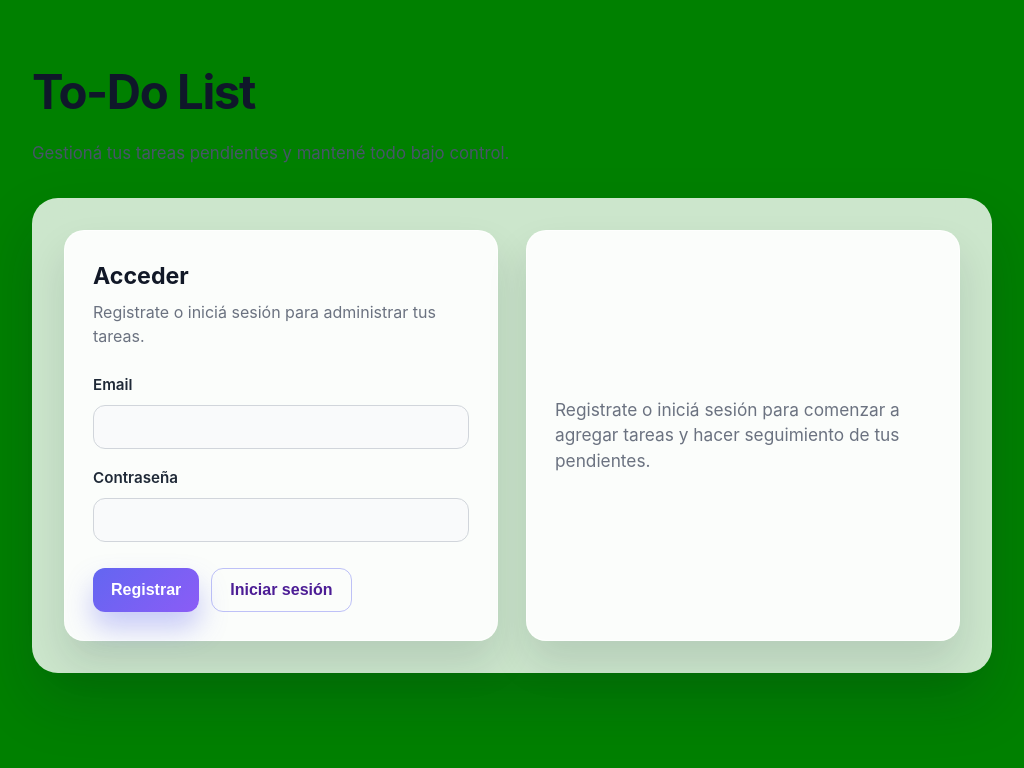
Test: App integration › muestra un mensaje si se intenta guardar una edición vacía
The width and height of the screenshot is (1024, 768).
Type "demo@example.com" into the field labelled "Email" at {"x": 281, "y": 427}, box [93,405,469,449]
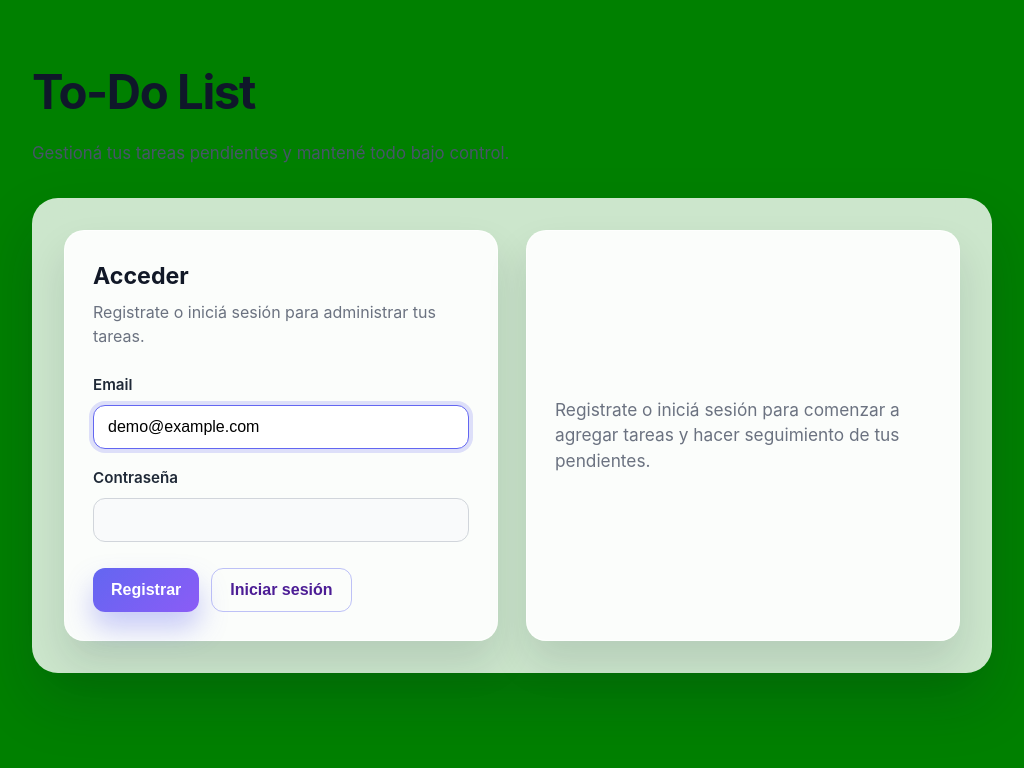
Type "pass123" into the password field labelled "Contraseña" at {"x": 281, "y": 520}, box [93,498,469,542]
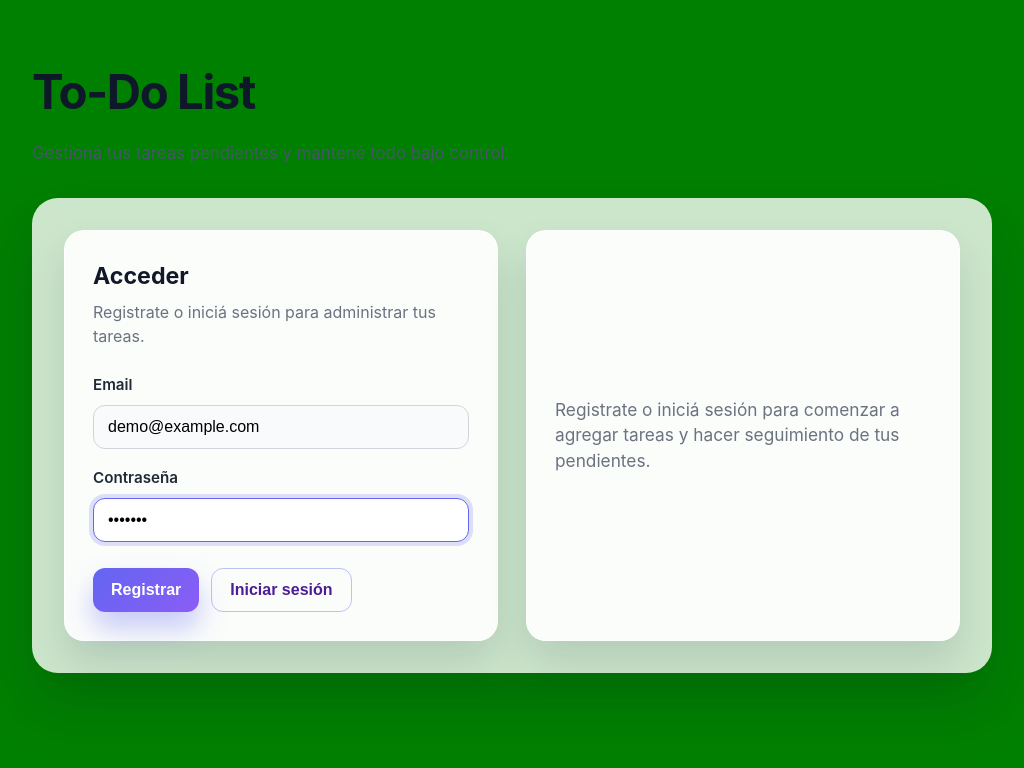
Click the button "Iniciar sesión" at {"x": 281, "y": 590}, box [211,568,352,612]
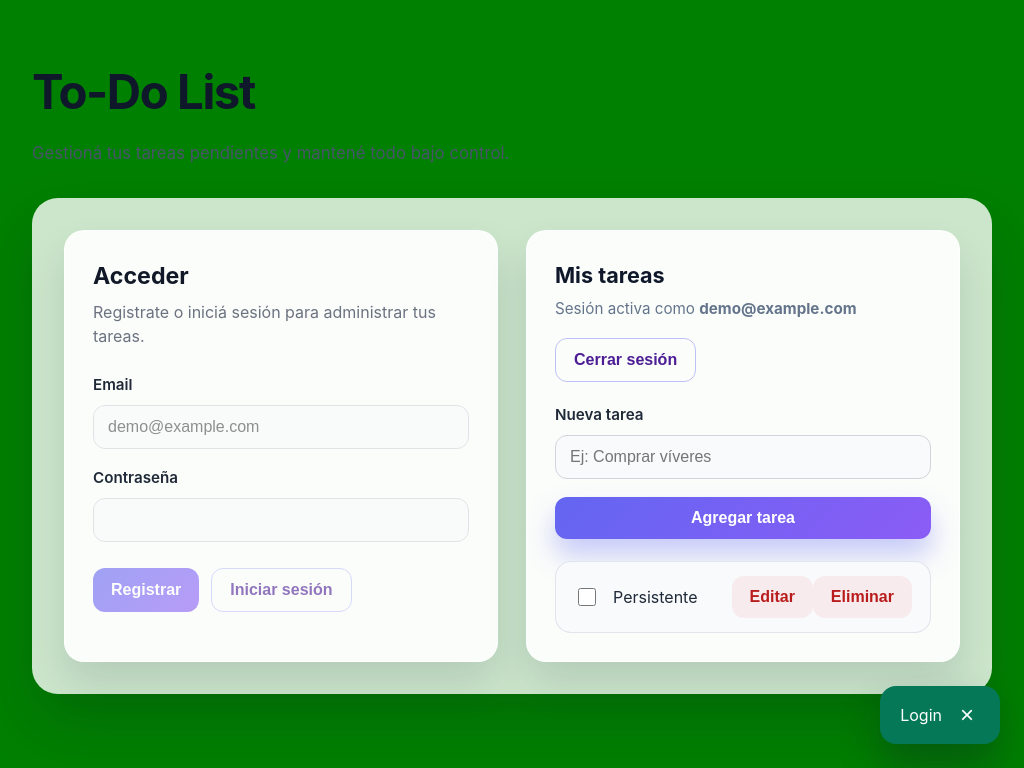
Click the button "Editar" at {"x": 772, "y": 597}, box [732,576,813,618]
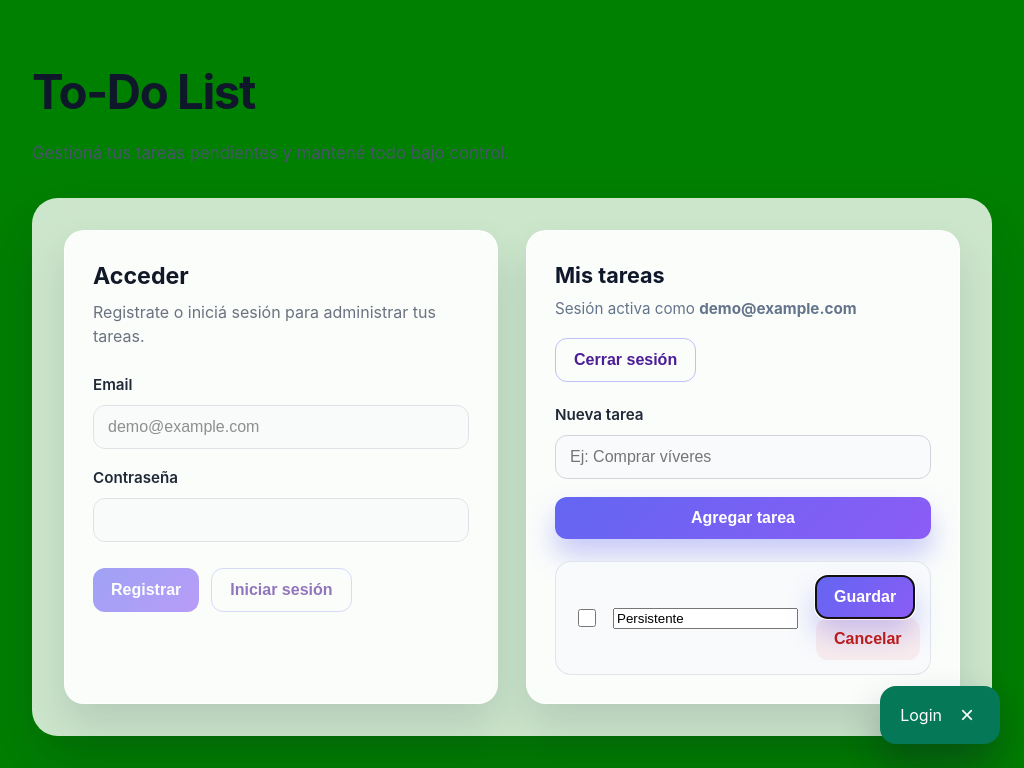
Clear the field named "editar tarea persistente" at {"x": 706, "y": 618}, box [613,608,798,629]
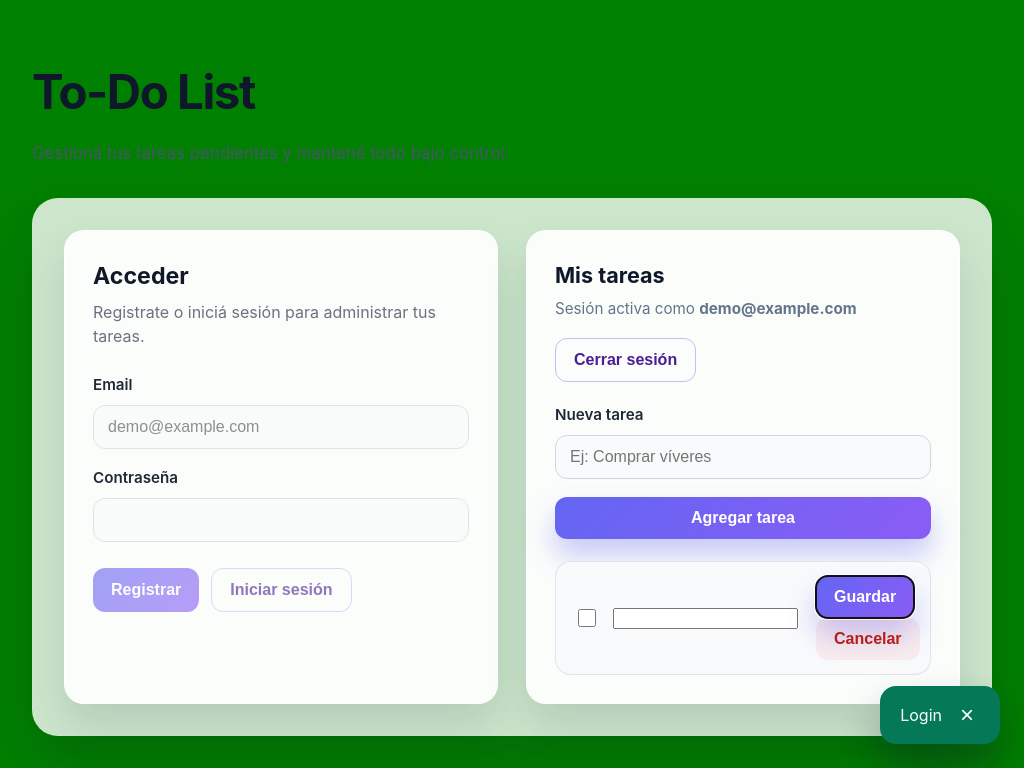
Click the button "Guardar" at {"x": 865, "y": 597}, box [816,576,914,618]
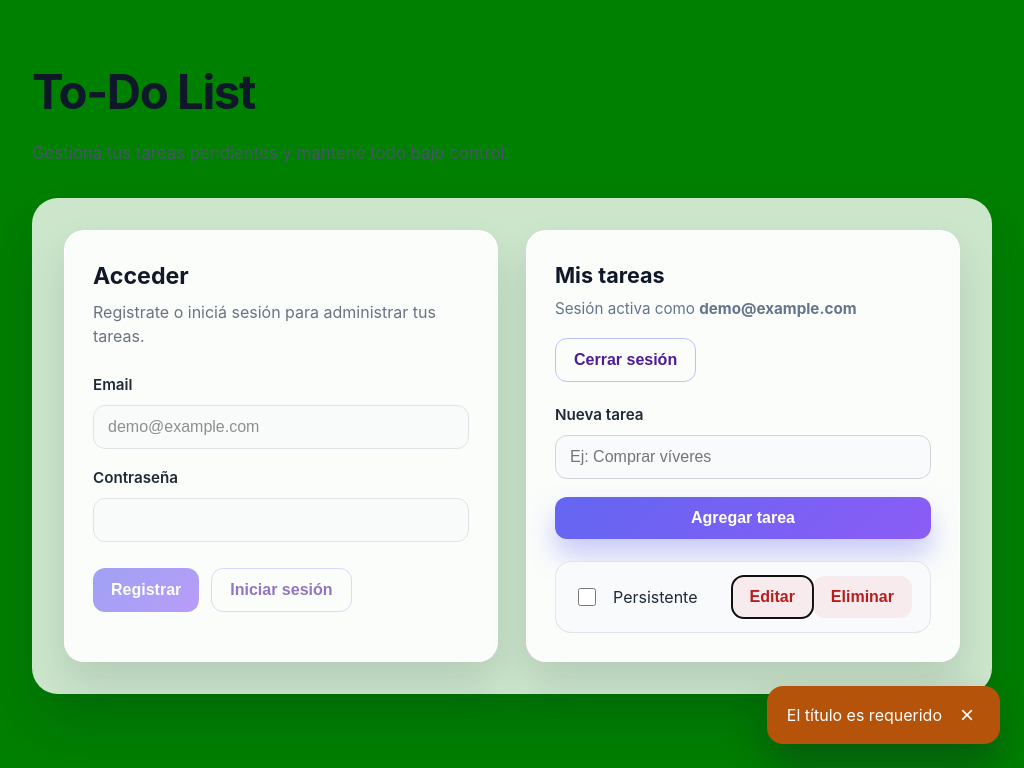
Result: the text "El título es requerido" is shown at [787,703,942,727]
